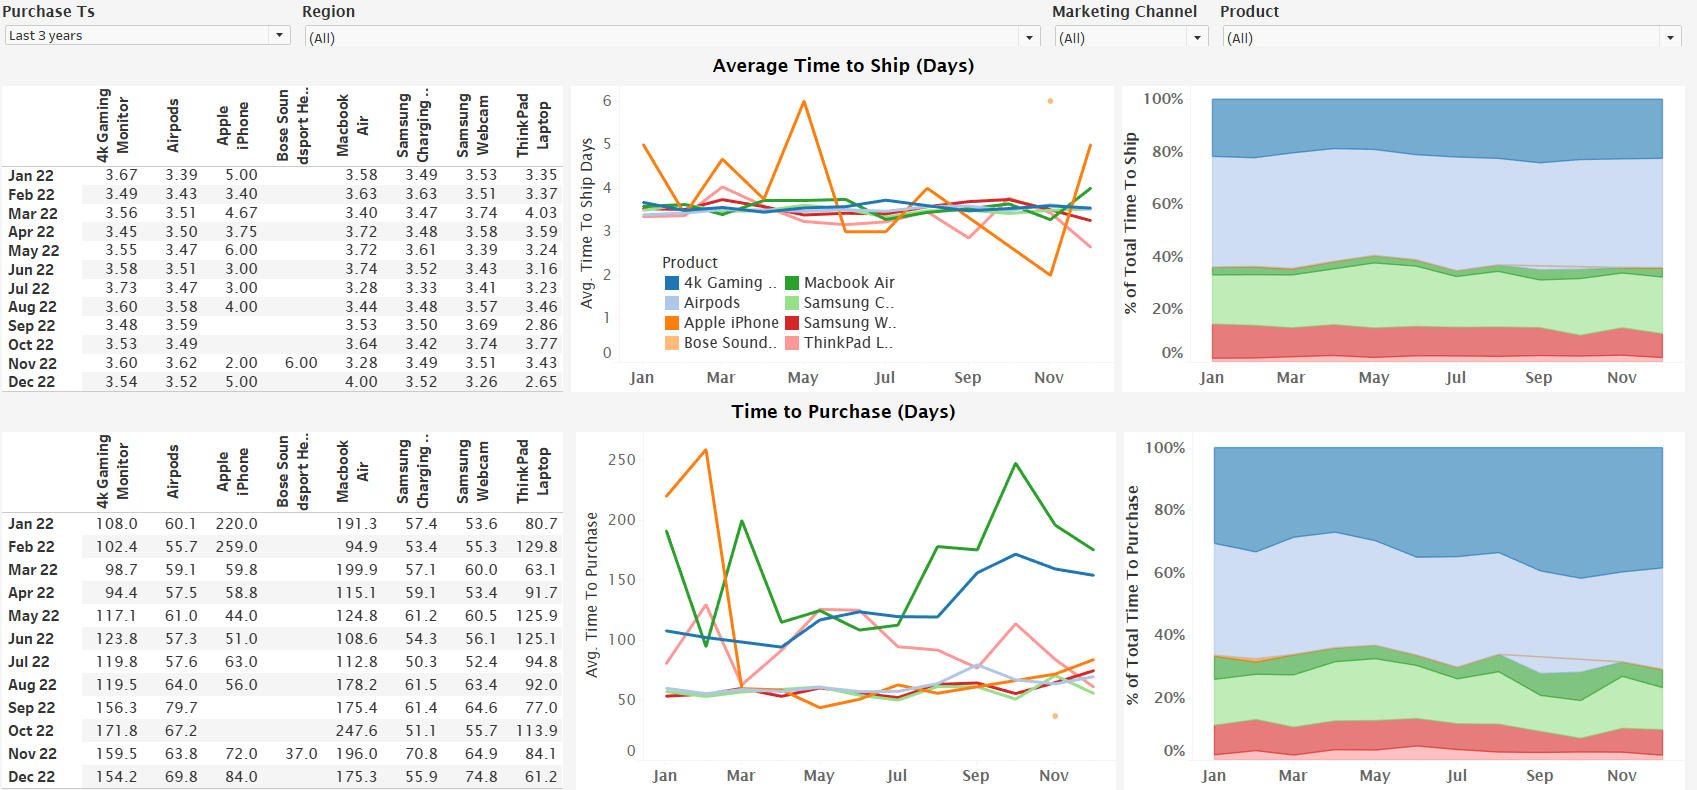

What the dashboard file says about the page in this screenshot:
{"tool":"tableau","page":{"name":"Dashboard 2","canvas":[1000,1000],"units":"permille","ordinal":1},"visuals":[{"type":"filter","title":"TTS by Month Table","param":"[federated.17e6xtl1oemijd1epmsin1qef693].[none:purchase_ts:qk]","box":[4.7,9.9,175.7,62.9]},{"type":"filter","title":"TTS by Month Table","param":"[federated.17e6xtl1oemijd1epmsin1qef693].[none:region:nk]","box":[180.4,9.9,439.4,62.9]},{"type":"filter","title":"TTS by Month Table","param":"[federated.17e6xtl1oemijd1epmsin1qef693].[none:marketing_channel:nk]","box":[619.8,9.9,98.4,62.9]},{"type":"filter","title":"TTS by Month Table","param":"[federated.17e6xtl1oemijd1epmsin1qef693].[none:product_name_clean:nk]","box":[718.2,9.9,277.1,62.9]},{"type":"text","box":[4.7,72.8,990.6,39.5]},{"type":"worksheet","title":"TTS by Month Table","mark":"Automatic","rows":["purchase_ts"],"cols":["product_name_clean"],"box":[4.7,112.2,333.3,387.2]},{"type":"worksheet","title":"TTS by Month Line Graph","mark":"Automatic","rows":["time_to_ship_days"],"cols":["purchase_ts"],"box":[338,112.2,322.8,387.2]},{"type":"worksheet","title":"TTS by Month Area Graph","mark":"Area","rows":["time_to_ship_days"],"cols":["purchase_ts"],"box":[660.8,112.2,334.5,387.2]},{"type":"legend","title":"TTS by Month Line Graph","param":"[federated.17e6xtl1oemijd1epmsin1qef693].[none:product_name_clean:nk]","box":[393.5,324.3,196.1,130.7]},{"type":"text","box":[4.7,499.4,990.6,39.5]},{"type":"worksheet","title":"TTP by Month Table ","mark":"Automatic","rows":["purchase_ts"],"cols":["product_name_clean"],"box":[4.7,538.8,336.3,450.1]},{"type":"worksheet","title":"TTP by Month Line Graph","mark":"Automatic","rows":["time_to_purchase_days"],"cols":["purchase_ts"],"box":[340.9,538.8,321.1,451.3]},{"type":"worksheet","title":"TTP by Month Area Graph","mark":"Area","cols":["purchase_ts"],"box":[662,538.8,333.3,451.3]}]}

Visuals, with their boxes on the dashboard's canvas, which has no fixed pixel size, in thousandths of its width and height (x1, y1, x2, y2). These are canvas units, not pixel positions in the 1697x790 screenshot, which may show the page scaled, cropped or inside an application window:
"TTS by Month Table" filter: bbox(5, 10, 180, 73)
"TTS by Month Table" filter: bbox(180, 10, 620, 73)
"TTS by Month Table" filter: bbox(620, 10, 718, 73)
"TTS by Month Table" filter: bbox(718, 10, 995, 73)
text: bbox(5, 73, 995, 112)
"TTS by Month Table" worksheet: bbox(5, 112, 338, 499)
"TTS by Month Line Graph" worksheet: bbox(338, 112, 661, 499)
"TTS by Month Area Graph" worksheet (Area marks): bbox(661, 112, 995, 499)
"TTS by Month Line Graph" legend: bbox(394, 324, 590, 455)
text: bbox(5, 499, 995, 539)
"TTP by Month Table " worksheet: bbox(5, 539, 341, 989)
"TTP by Month Line Graph" worksheet: bbox(341, 539, 662, 990)
"TTP by Month Area Graph" worksheet (Area marks): bbox(662, 539, 995, 990)
